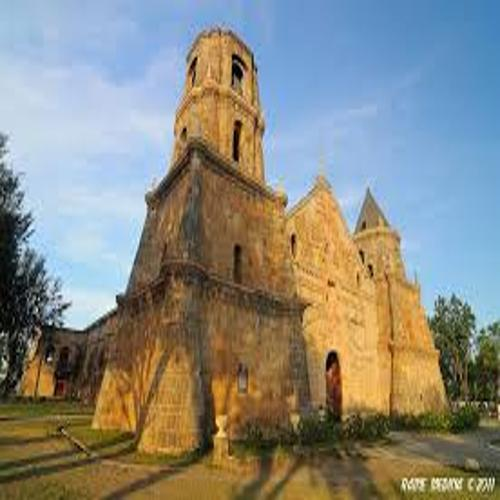Miagao Church: (129, 15, 456, 436)
